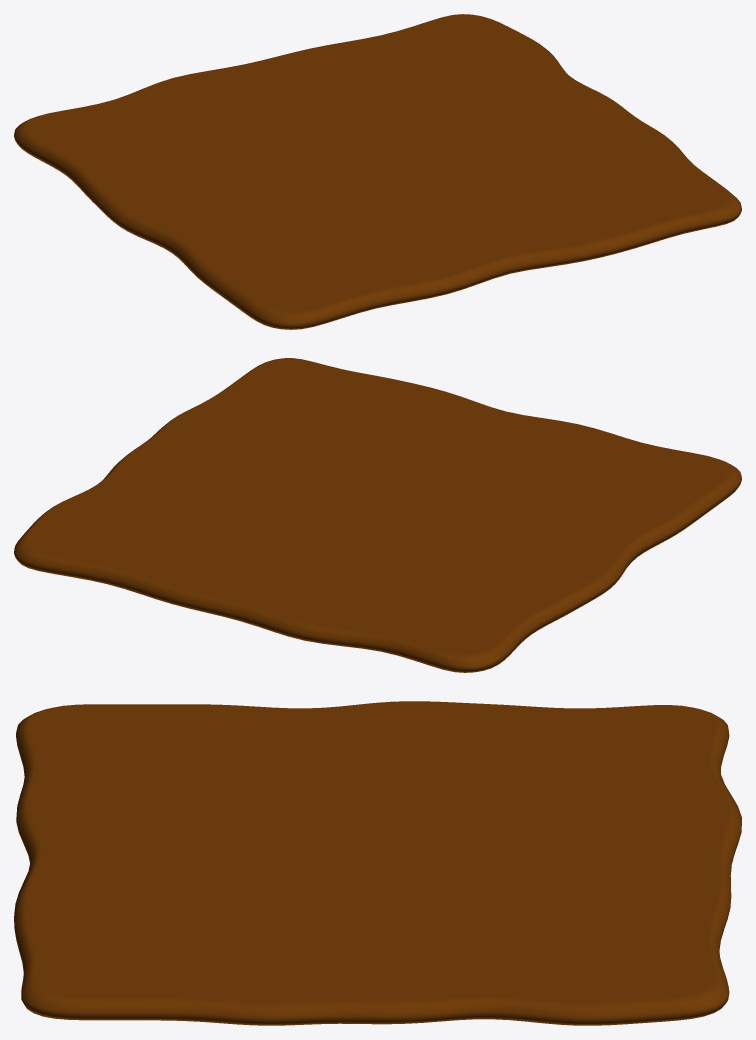
Rendered from dirt_01.fbx.
3 renders of one model, top to bottom at view 1: azimuth 30°, elevation 25°; view 2: azimuth 150°, elevation 25°; view 3: azimuth 270°, elevation 25°, orthographic. The views are drawn at different scales.
Parts seen in each view (by area): view 1: Cube.141; view 2: Cube.141; view 3: Cube.141.
Part boxes in pixels (box(x1,y1,x2,y2)): Cube.141: box(14, 14, 741, 329); Cube.141: box(14, 358, 741, 672); Cube.141: box(14, 701, 741, 1025).
Size of the model in its own units: 849 by 23.31 by 835.
